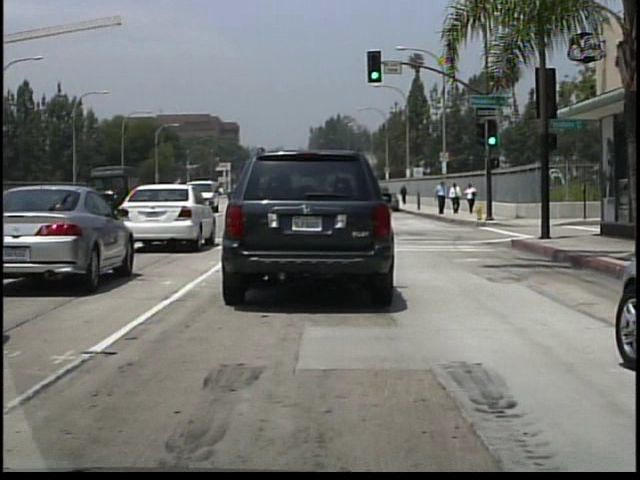person: (437, 178, 451, 217), (466, 181, 480, 215), (450, 183, 463, 217), (400, 184, 410, 206)
